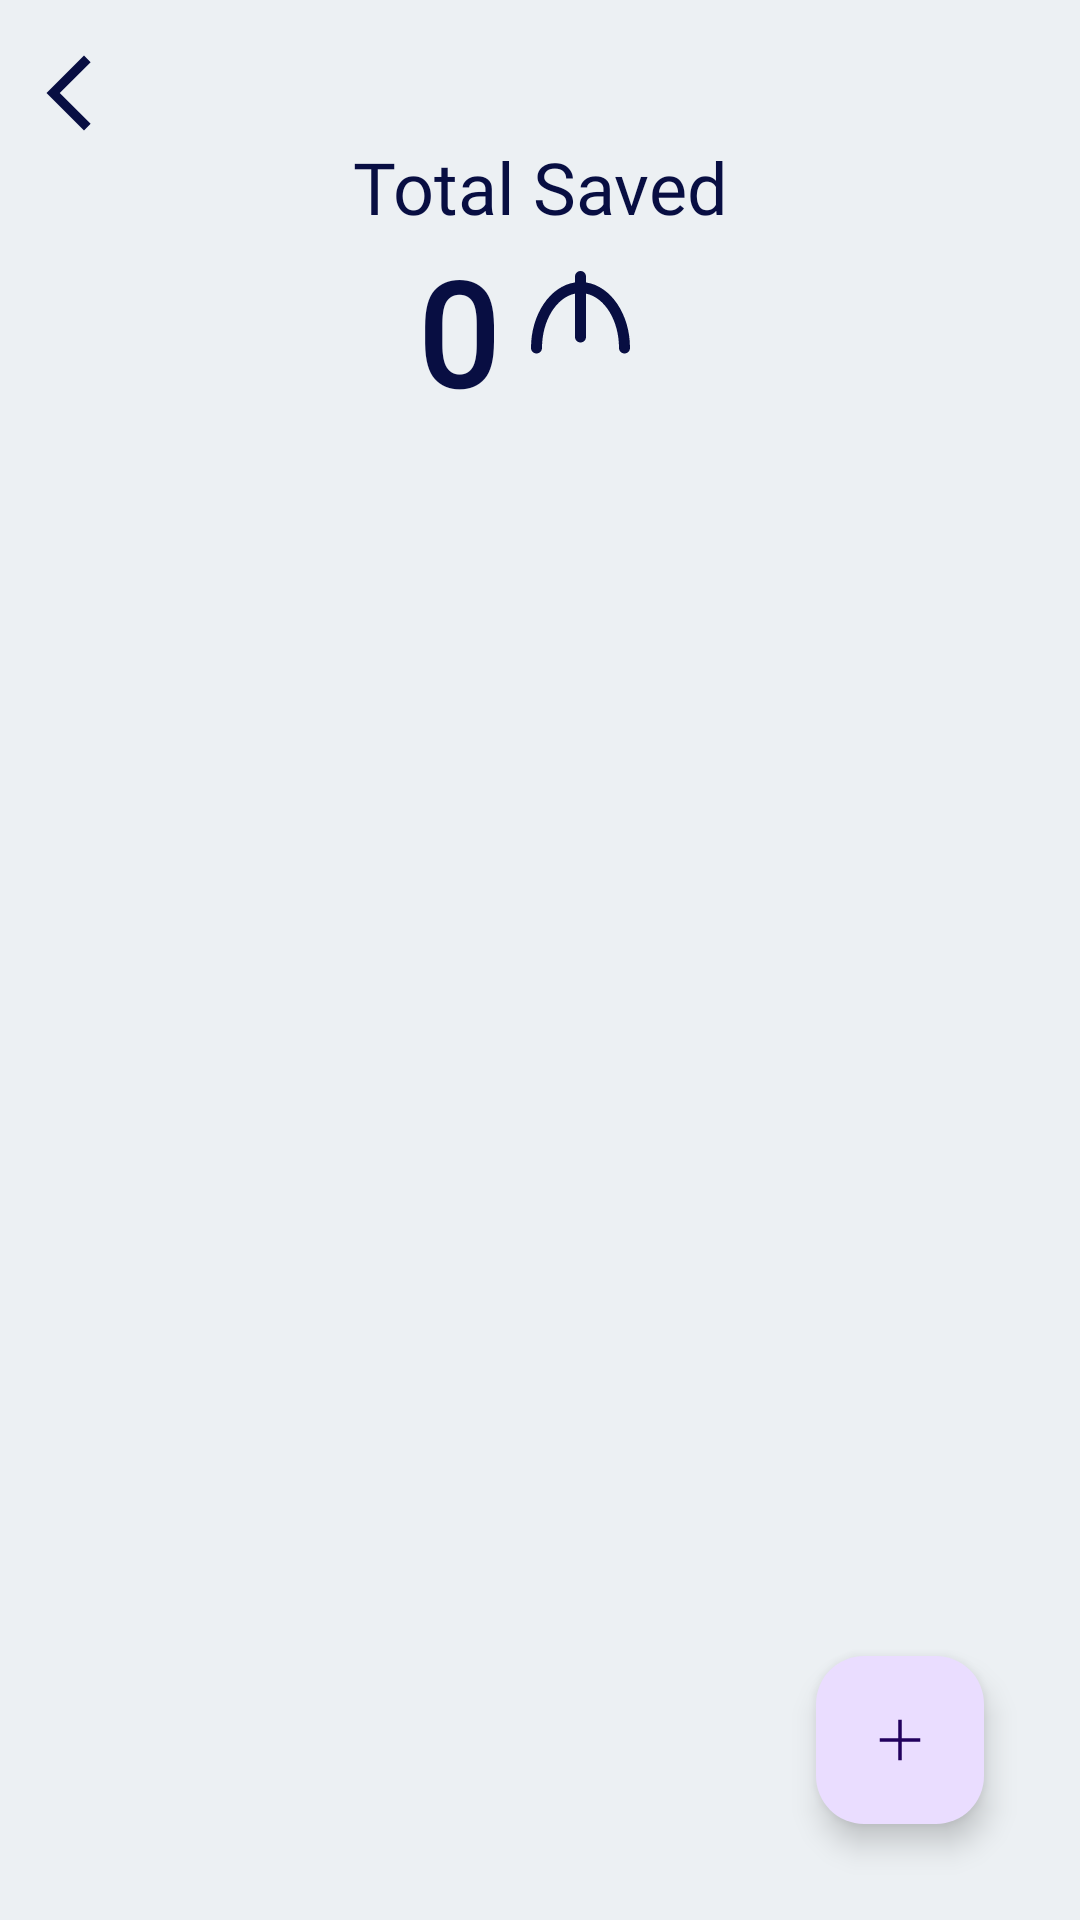

Icons on this 1080x1920 Android screen, each with the point to tap as [x,y]:
back: [68,93]
category add: [900,1740]
manat: [580,312]
